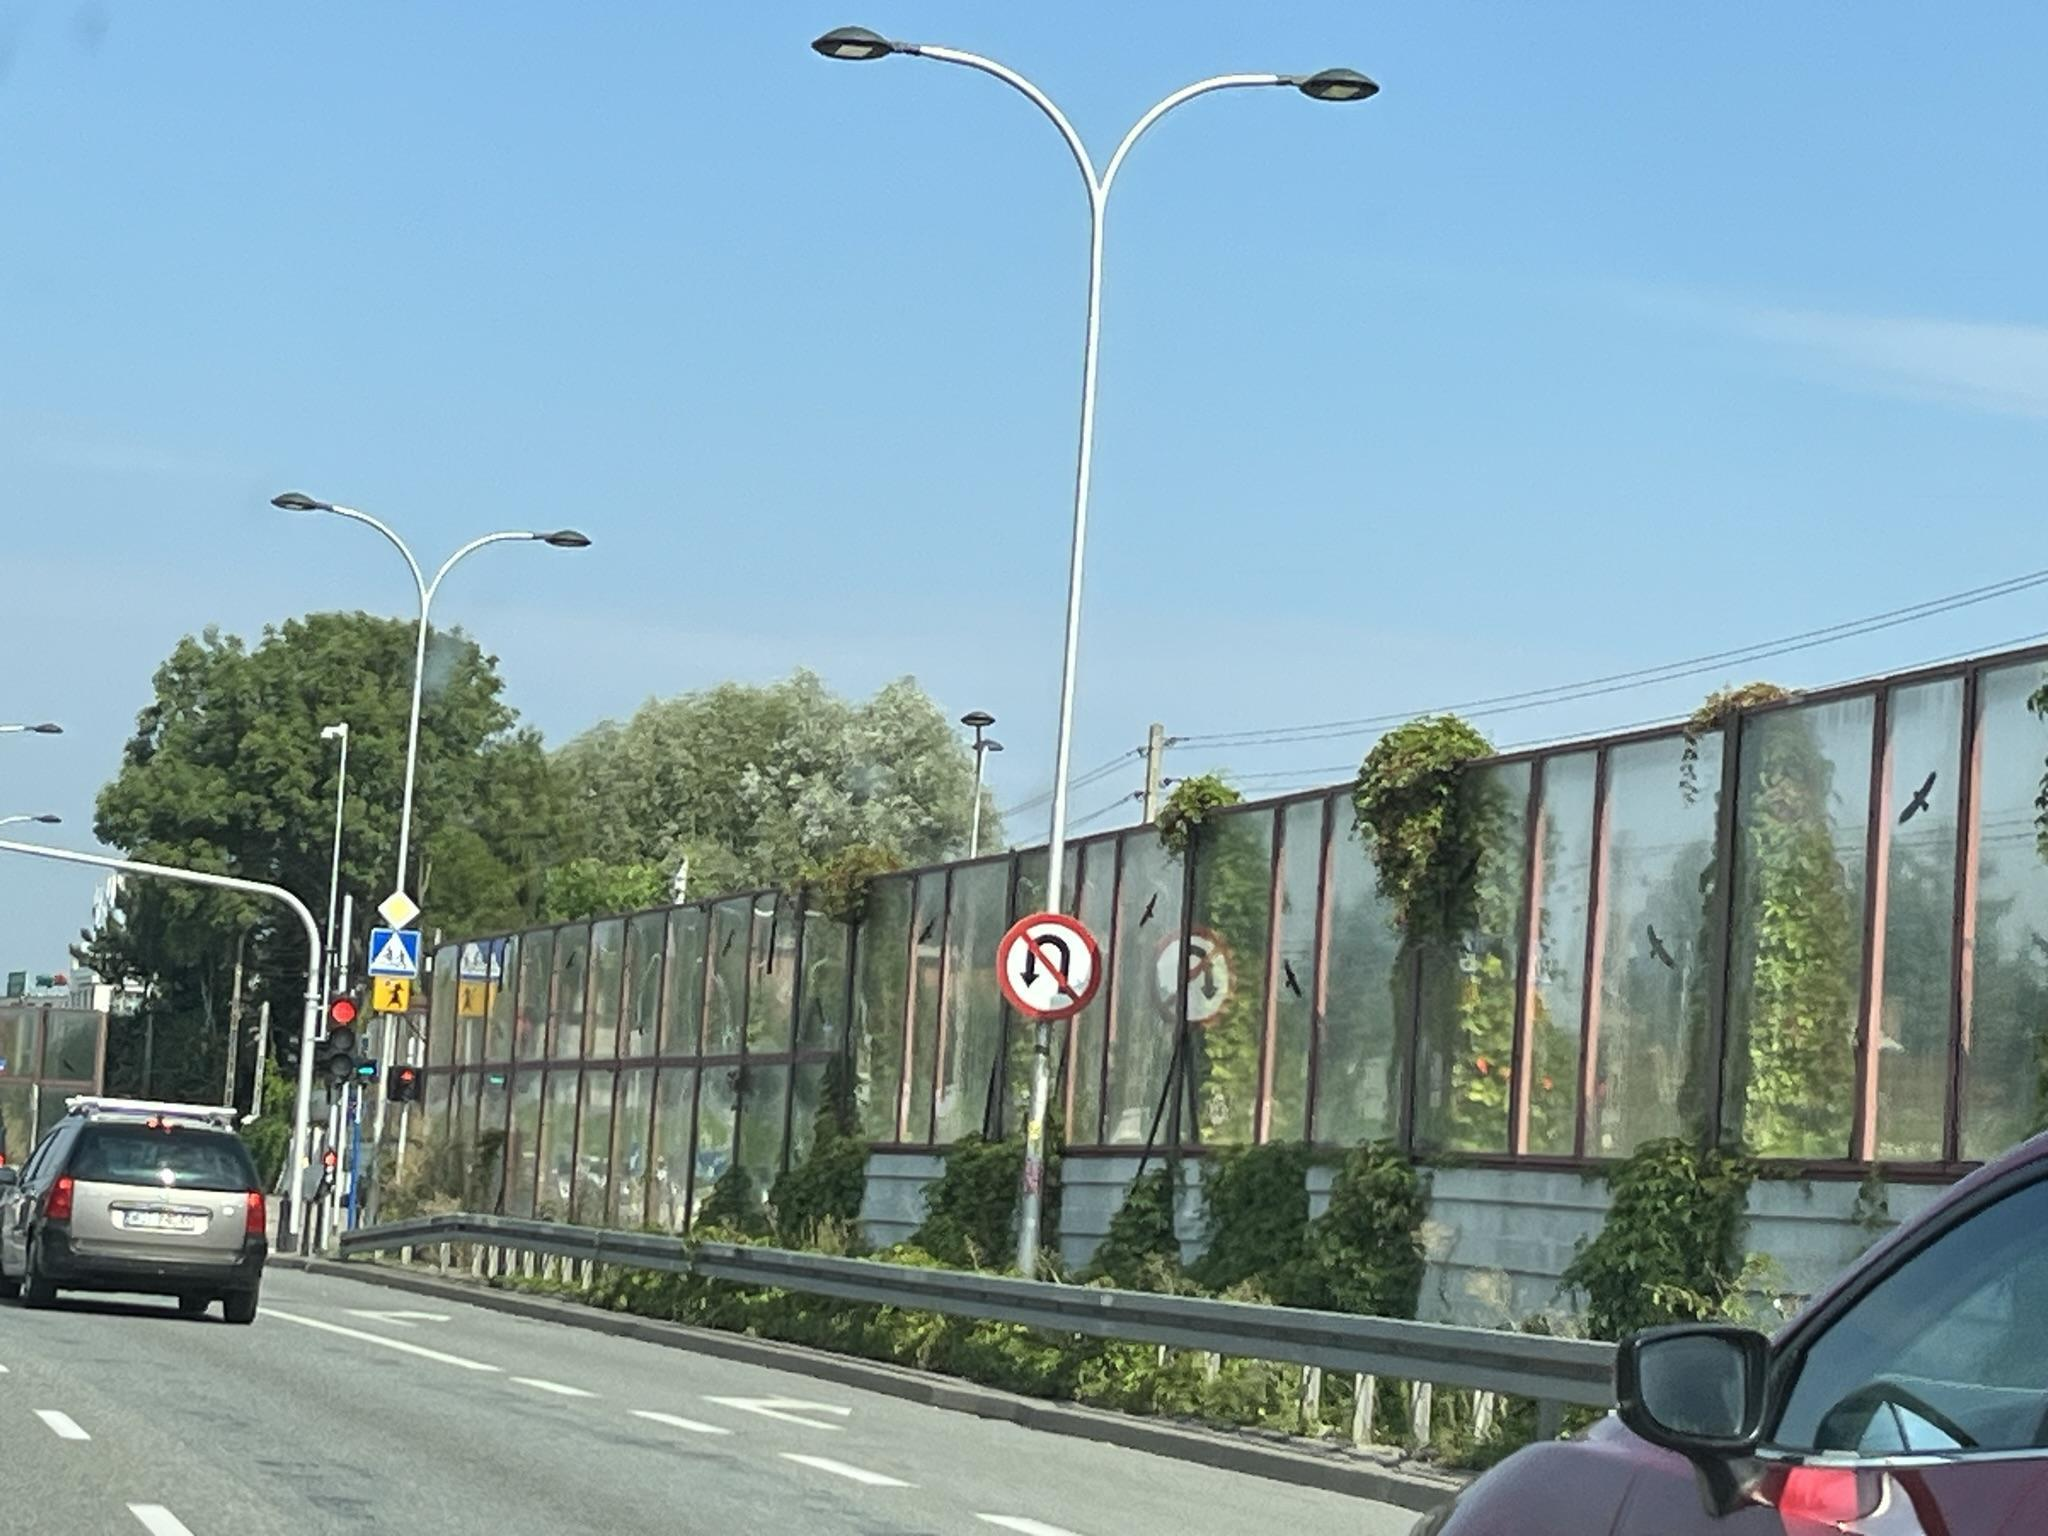information: (366, 929, 423, 976), (377, 891, 424, 929)
other: (373, 979, 410, 1013)
prohibitory: (995, 910, 1103, 1021)
